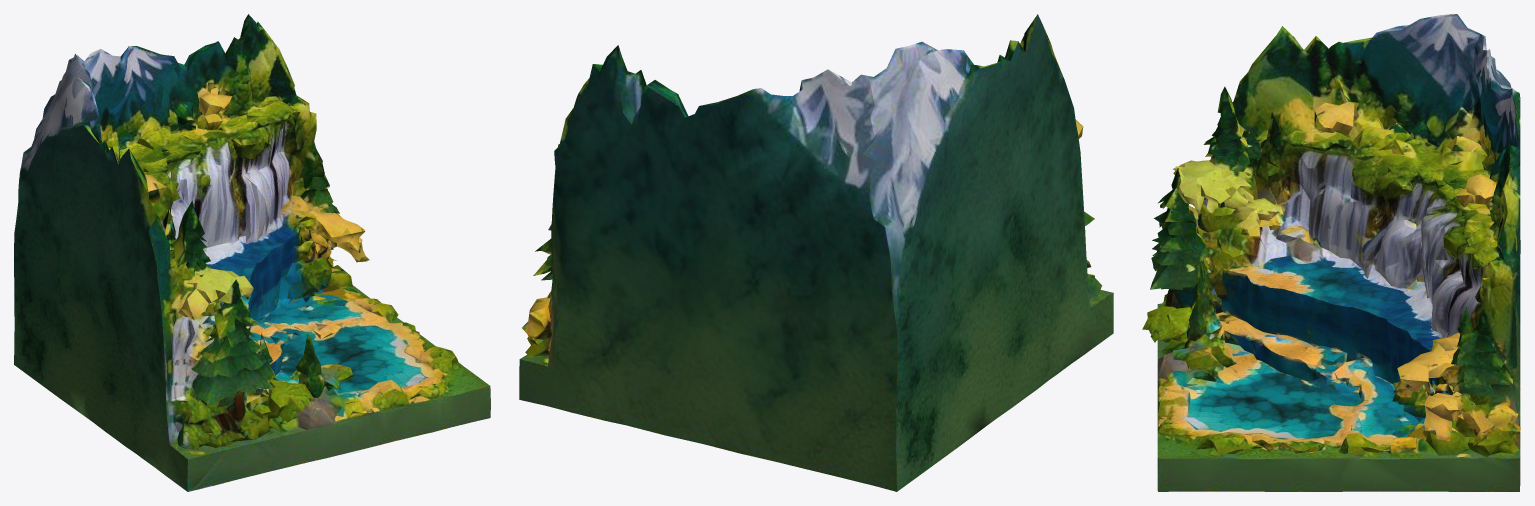
Rendered from jiuzhaigou.glb.
3 views of the same model, side by side, from view 1: azimuth 30°, elevation 25°; view 2: azimuth 150°, elevation 25°; view 3: azimuth 270°, elevation 25° (orthographic). The views are drawn at different scales.
Parts seen in each view (by area): view 1: logan-textured.obj; view 2: logan-textured.obj; view 3: logan-textured.obj.
Boxes of the visible parts, left/top/right/bottom form: logan-textured.obj: left=14, top=14, right=490, bottom=491; logan-textured.obj: left=519, top=14, right=1113, bottom=491; logan-textured.obj: left=1142, top=14, right=1520, bottom=491.
Size of the model in its own units: 1 by 0.9892 by 0.9992.
Materials: 1 (1 with a texture image).
